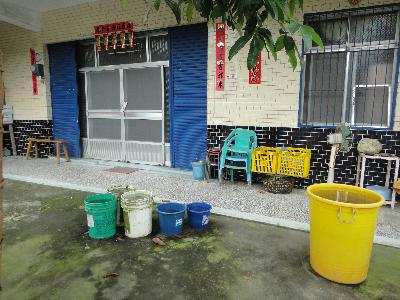bucket: (306, 181, 388, 286), (120, 189, 155, 239), (83, 193, 119, 241), (156, 202, 187, 237), (186, 200, 213, 230), (189, 159, 206, 182)
